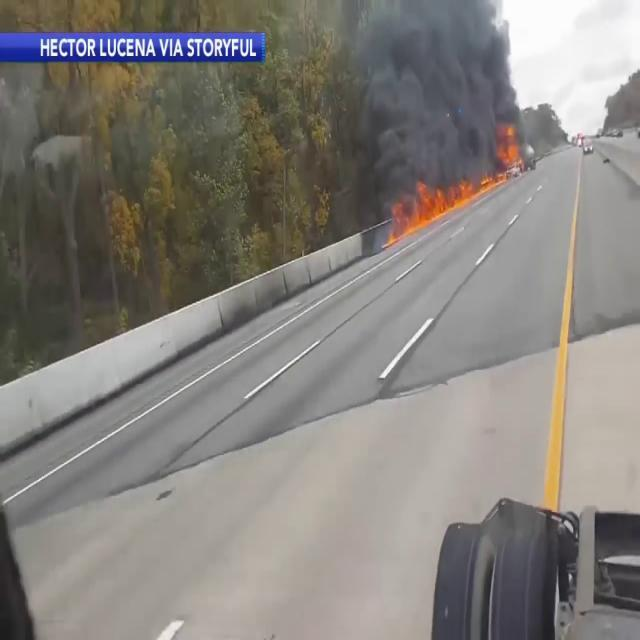Fire: (384, 175, 496, 232), (493, 120, 525, 184)
Smoke: (33, 2, 511, 205), (179, 2, 509, 202), (297, 2, 510, 188)
